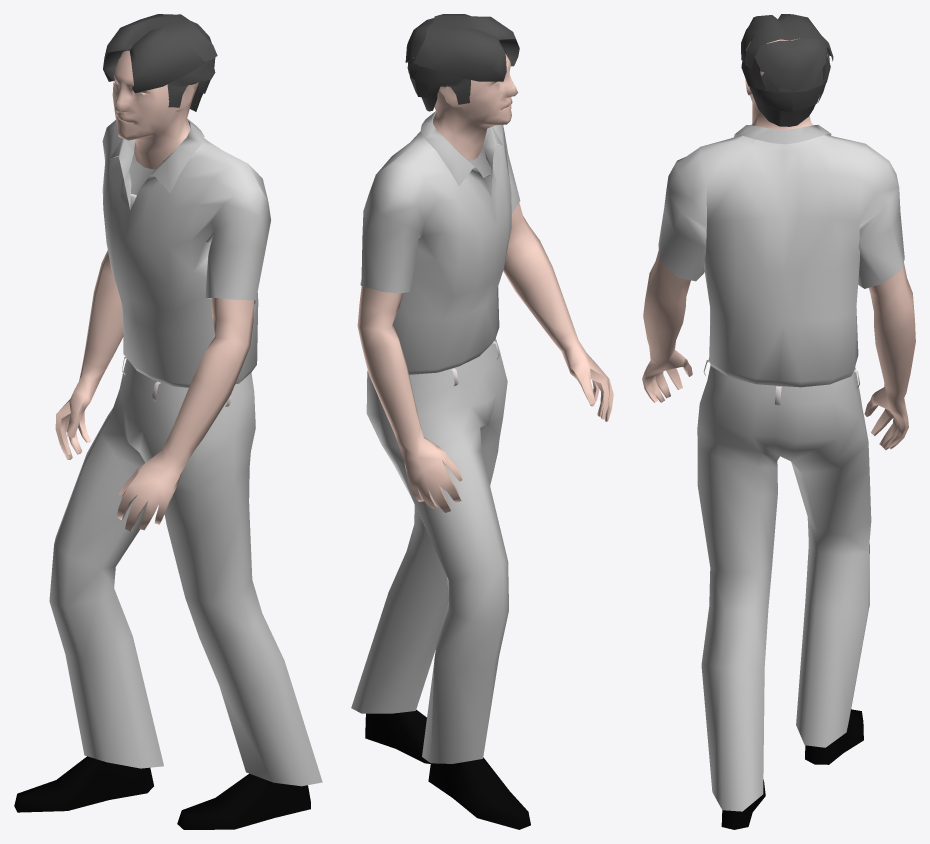
Rendered from people.glb.
3 renders of one model, left to right at view 1: azimuth 30°, elevation 25°; view 2: azimuth 150°, elevation 25°; view 3: azimuth 270°, elevation 25°, orthographic. The views are drawn at different scales.
Visible parts, largest first — view 1: 人; view 2: 人; view 3: 人.
Part boxes in pixels (bbox=[...]): 人: bbox=[14, 14, 322, 829]; 人: bbox=[351, 14, 613, 829]; 人: bbox=[642, 14, 915, 829].
Bounding box in the file's own units: 0.3668 × 1.14 × 0.3765.
